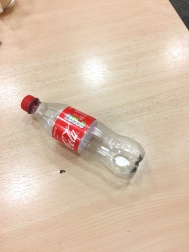bottle_red: (17, 84, 154, 193)
